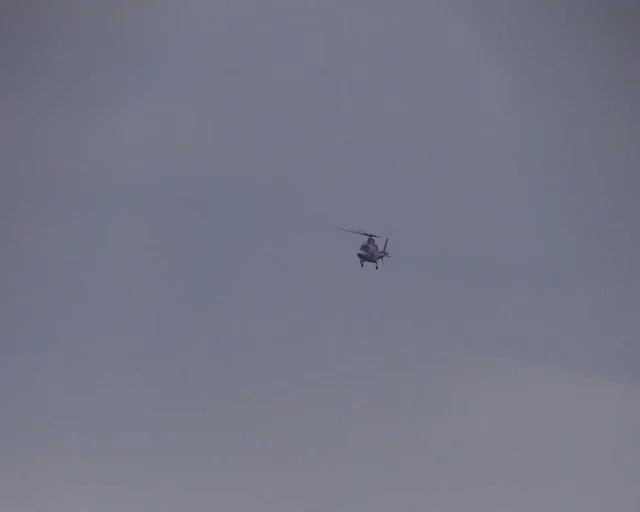HELICOPTER: (337, 227, 391, 270)
